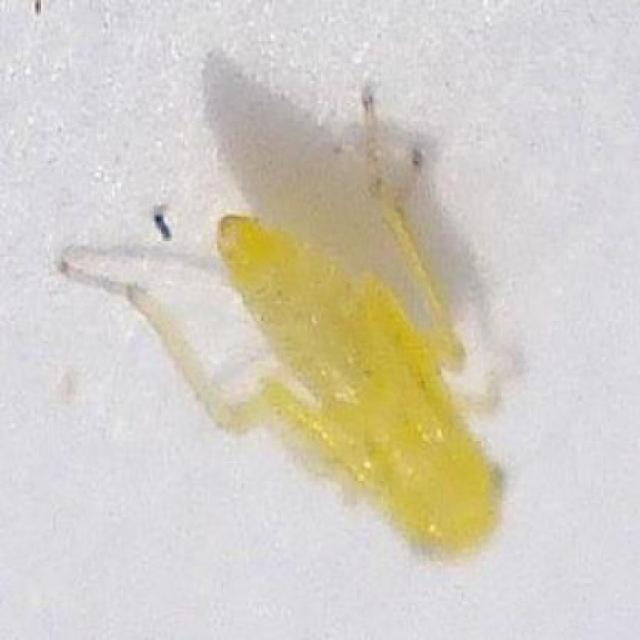green-leafhopper: (133, 160, 504, 555)
